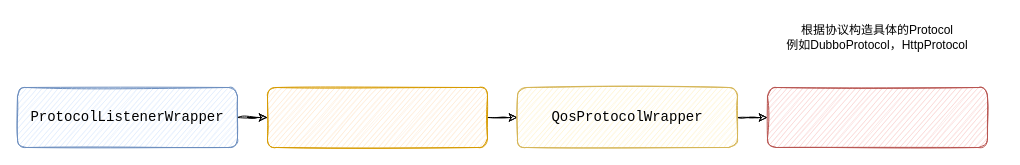
Some shapes in this 1020 by 165 pixel diagram are drawn without their labels. Each missing label, with the centre of its shape:
ProtocolFilterWrapper: the point at 377,117
XxxProtocol: the point at 877,117
